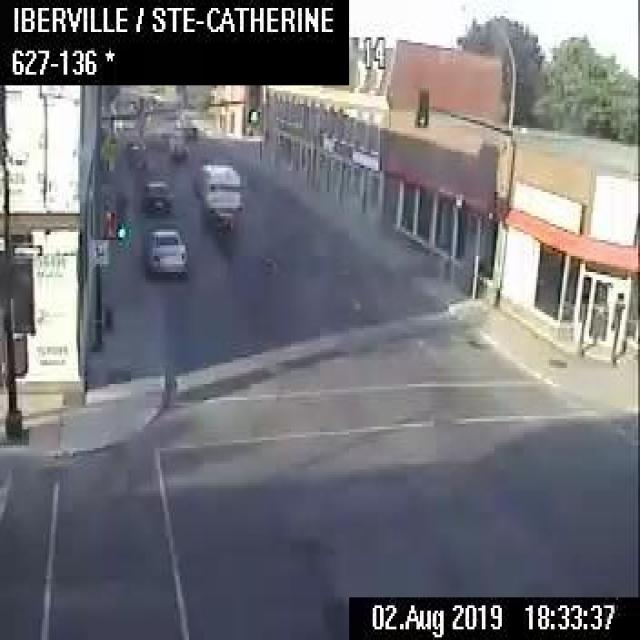vehicle: (191, 157, 246, 235), (143, 224, 189, 277), (140, 173, 174, 216), (162, 127, 190, 159)
